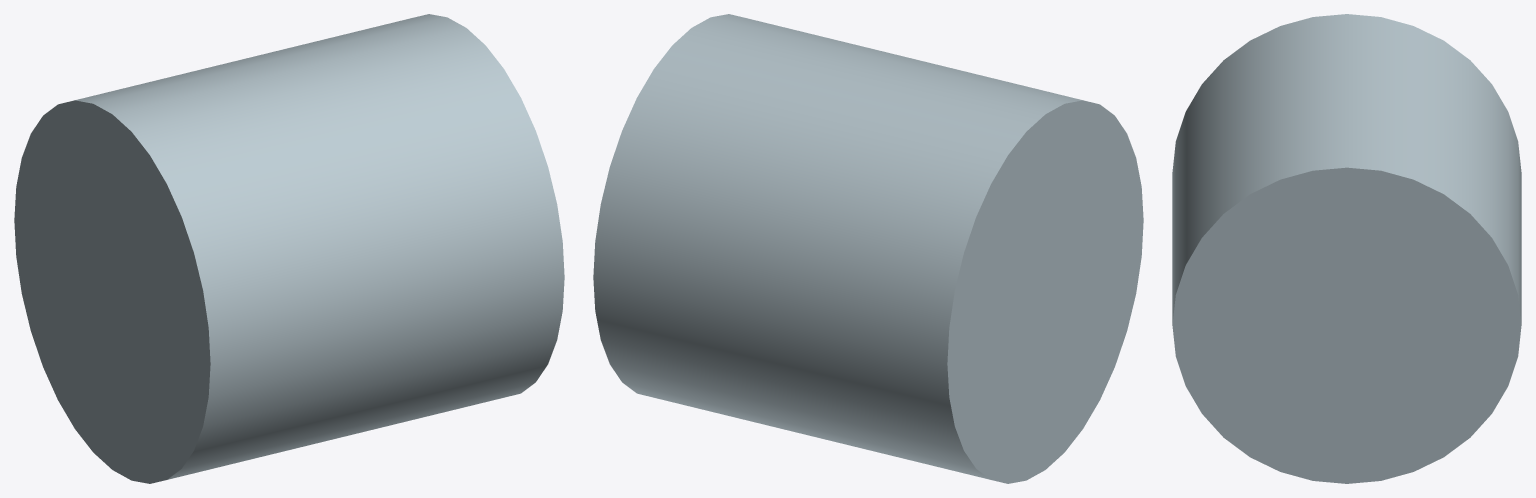
File: motor.glb
The picture shows the model from 3 angles, left to right: view 1: azimuth 30°, elevation 25°; view 2: azimuth 150°, elevation 25°; view 3: azimuth 270°, elevation 25°; orthographic projection. The views are drawn at different scales.
Bounding box in the file's own units: 2.5 × 2.4 × 2.4.
